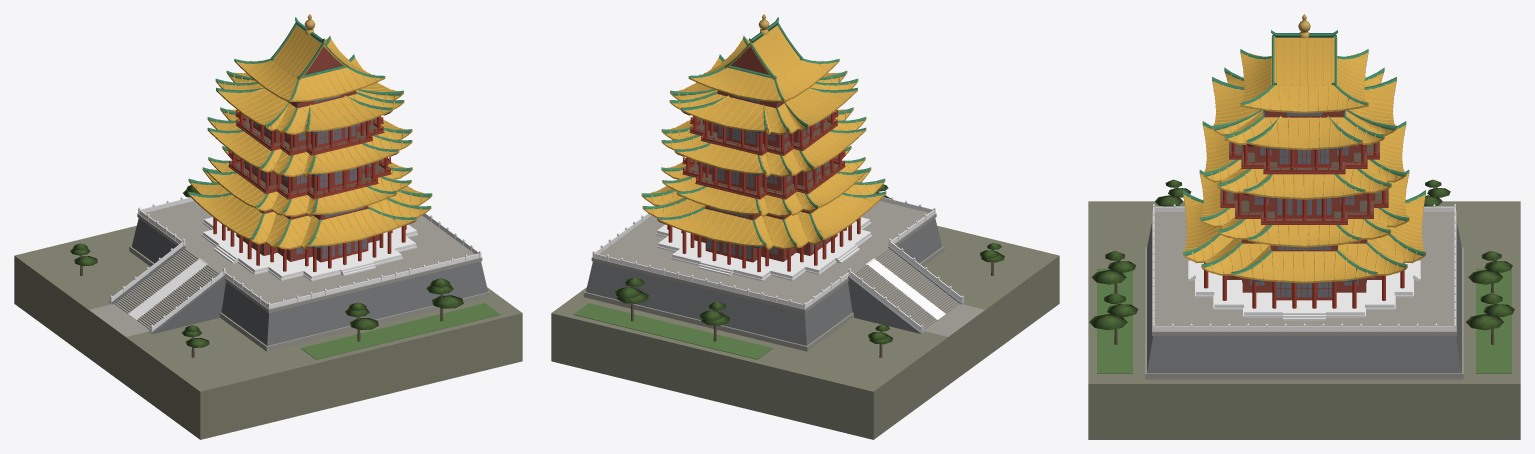
Rendered from top-prebuilt_close.fbx.
3 renders of one model, left to right at view 1: azimuth 30°, elevation 25°; view 2: azimuth 150°, elevation 25°; view 3: azimuth 270°, elevation 25°, orthographic. The views are drawn at different scales.
Parts seen in each view (by area): view 1: landmark-grand_pavilion/0/top-prebuilt_close; view 2: landmark-grand_pavilion/0/top-prebuilt_close; view 3: landmark-grand_pavilion/0/top-prebuilt_close.
Boxes of the visible parts, x1,y1,x2,y2 form: landmark-grand_pavilion/0/top-prebuilt_close: (14,14,522,439); landmark-grand_pavilion/0/top-prebuilt_close: (551,14,1059,439); landmark-grand_pavilion/0/top-prebuilt_close: (1088,14,1520,439).
Size of the model in its own units: 70 by 64 by 70.
